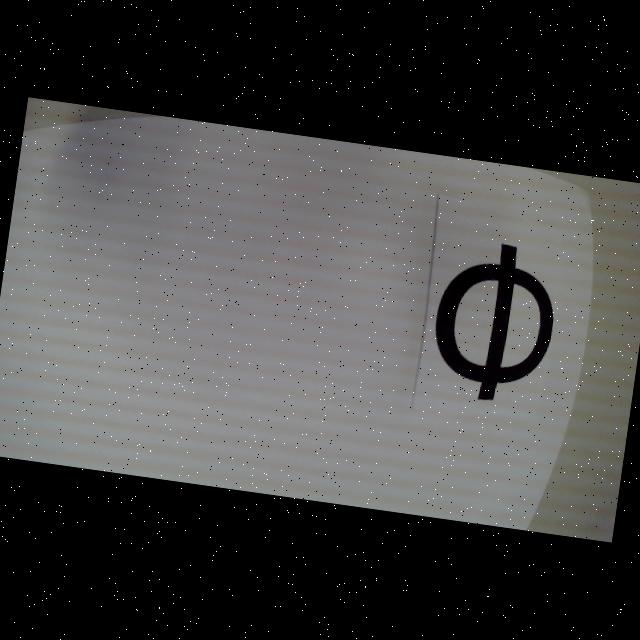PHI: (426, 234, 566, 408)
